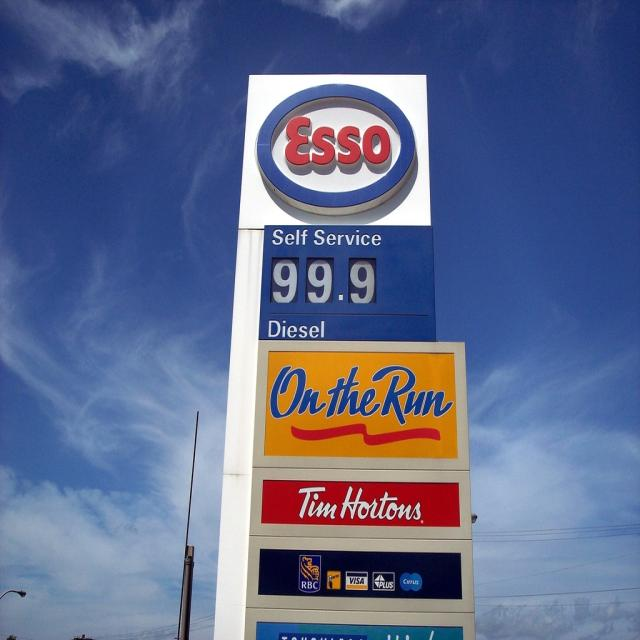esso: (259, 78, 422, 216)
